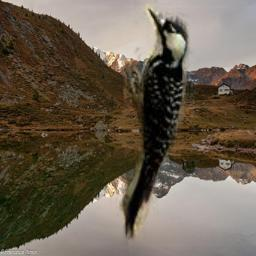Woodpecker: (109, 0, 197, 256)
